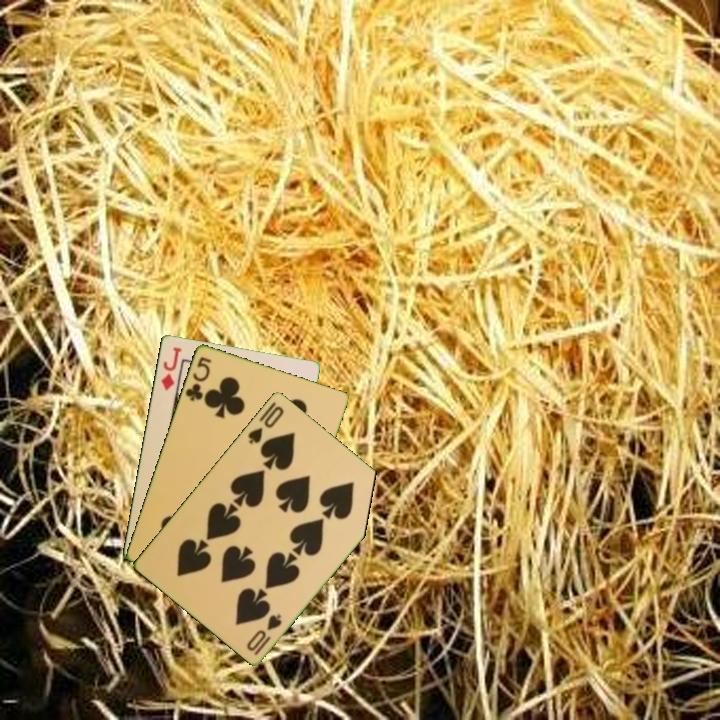10s: (243, 610, 285, 658), (244, 402, 287, 447)
5c: (181, 353, 214, 404)
Jd: (157, 343, 184, 393)
